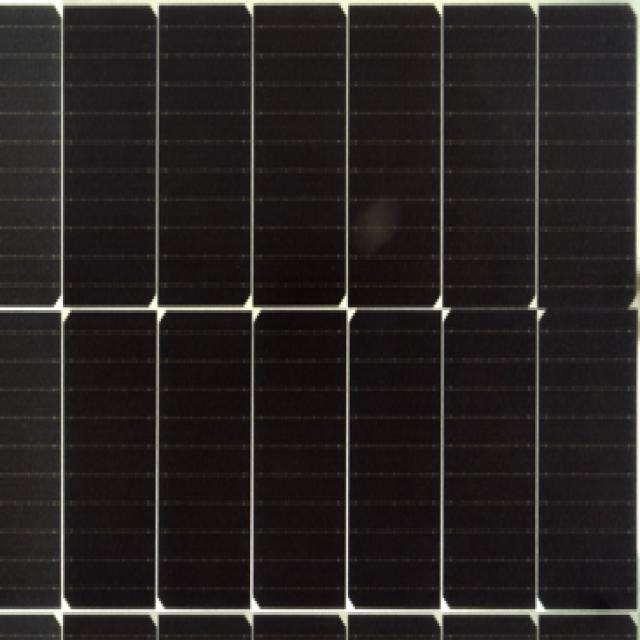CELL SHORT: (452, 297, 632, 326)
